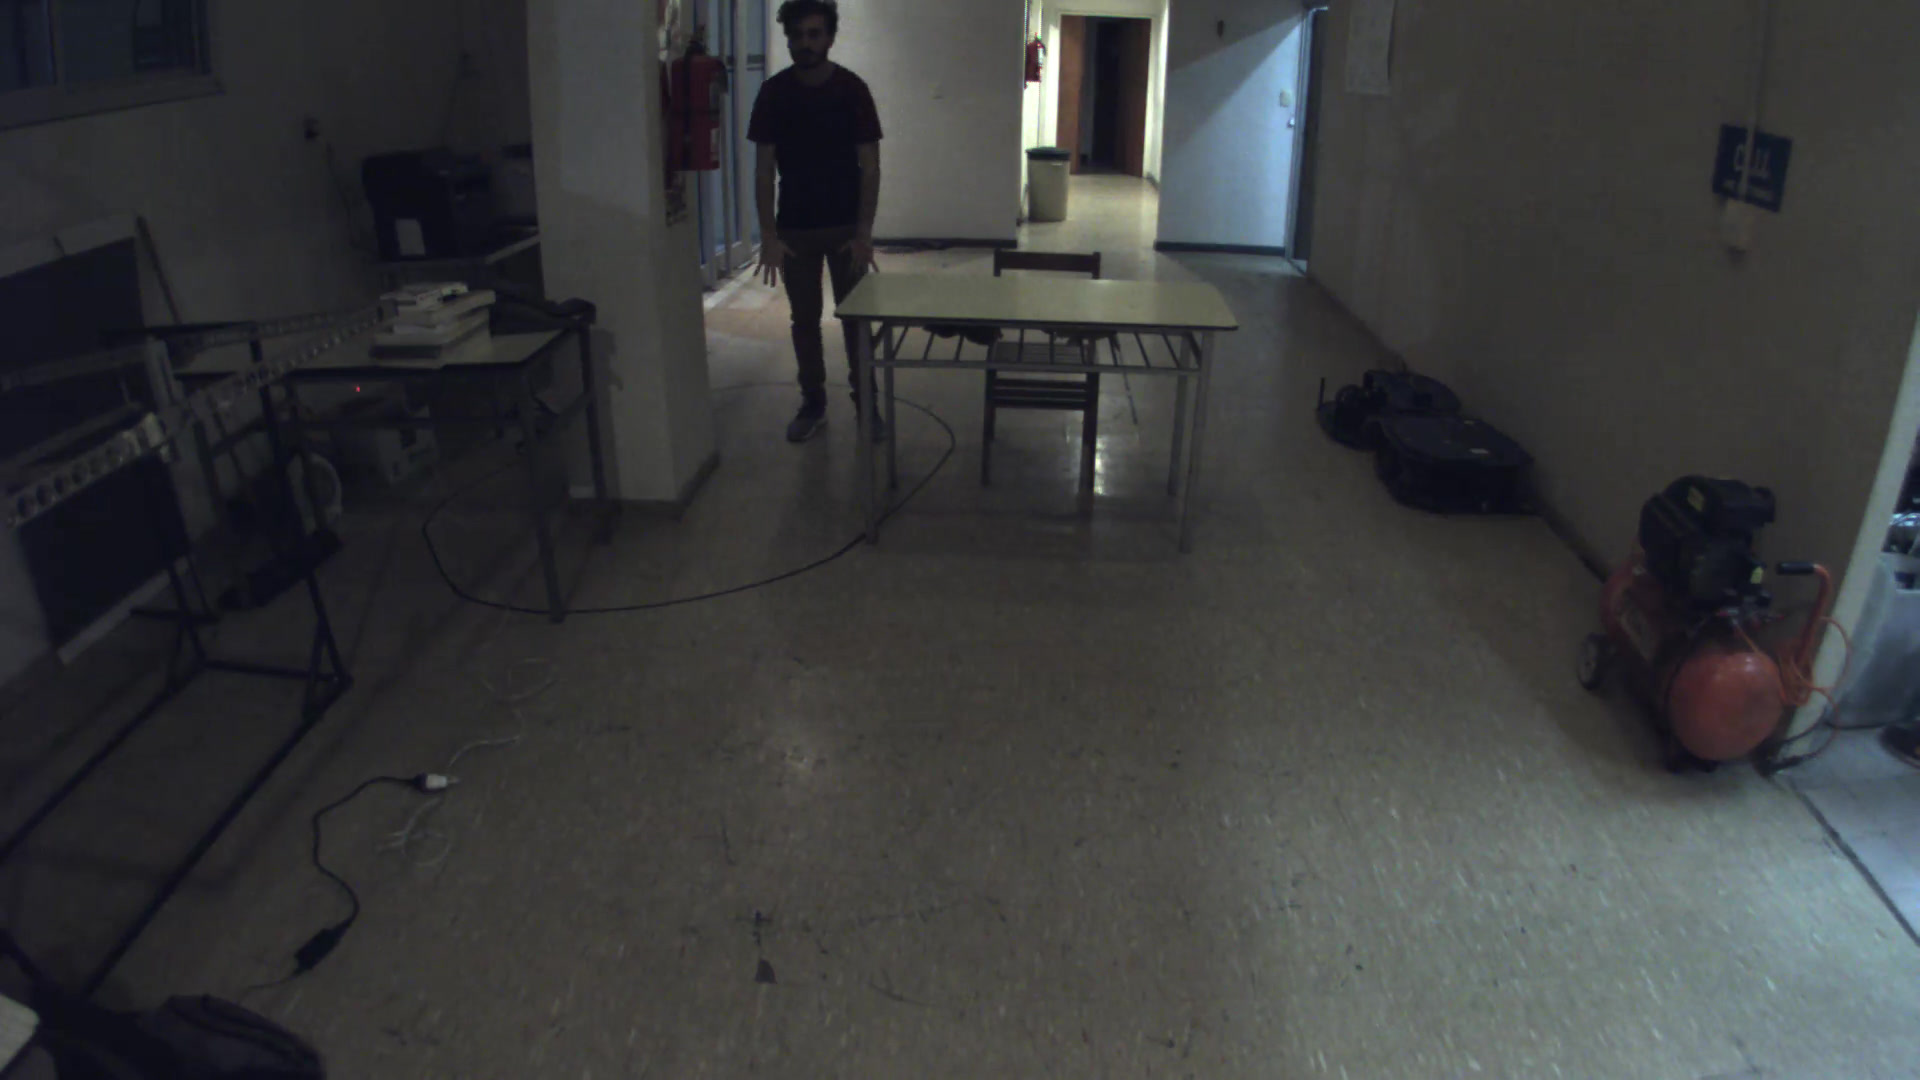hand: (742, 220, 796, 287), (835, 233, 891, 287)
